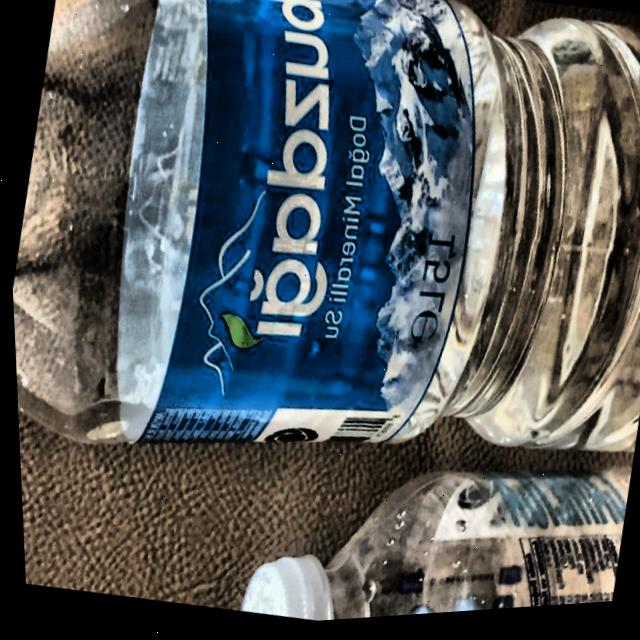plastic: (10, 0, 640, 466), (234, 473, 627, 625)
